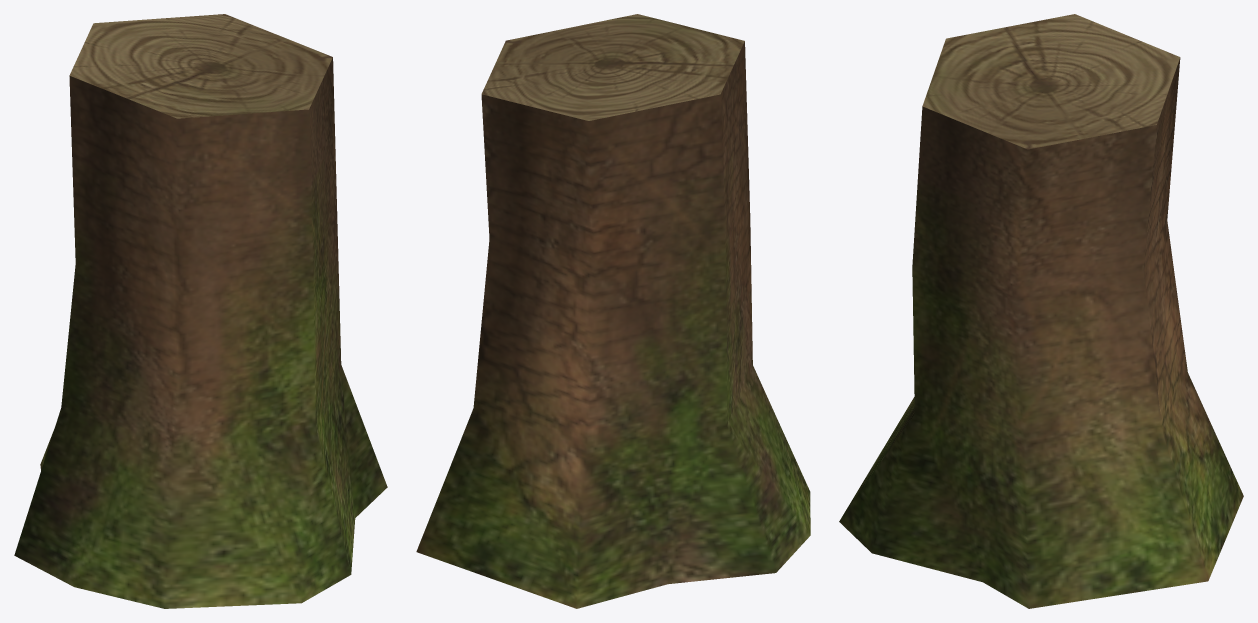
Rendered from Pine_Stump_01.FBX.
3 views of the same model, side by side, from view 1: azimuth 30°, elevation 25°; view 2: azimuth 150°, elevation 25°; view 3: azimuth 270°, elevation 25° (orthographic). The views are drawn at different scales.
Parts seen in each view (by area): view 1: Pine_Stump_01; view 2: Pine_Stump_01; view 3: Pine_Stump_01.
Boxes of the visible parts, <box> form: Pine_Stump_01: <box>14,14,387,608</box>; Pine_Stump_01: <box>416,14,810,608</box>; Pine_Stump_01: <box>839,14,1243,608</box>.
Bounding box in the file's own units: 6.12 × 6.29 × 7.79.
2 materials, 2 textured.
